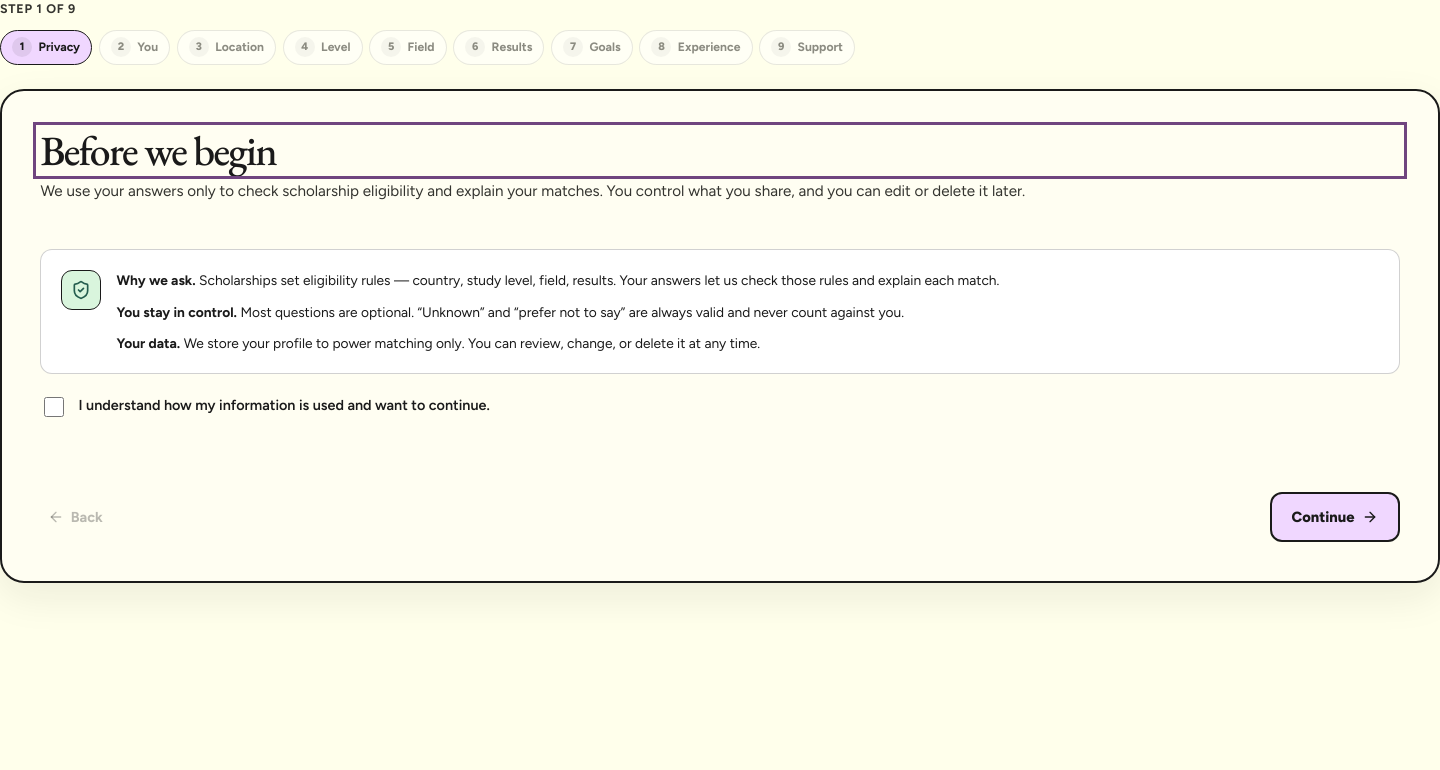
Test: OnboardingWizard › blocks Continue on the consent gate until consent is given
This screenshot has width=1440, height=770.
Check: the heading "Before we begin" is shown, box x1=40 y1=123 x2=276 y2=177
Click the button "Continue".
click(1335, 517)  # box x1=1270 y1=492 x2=1400 y2=542
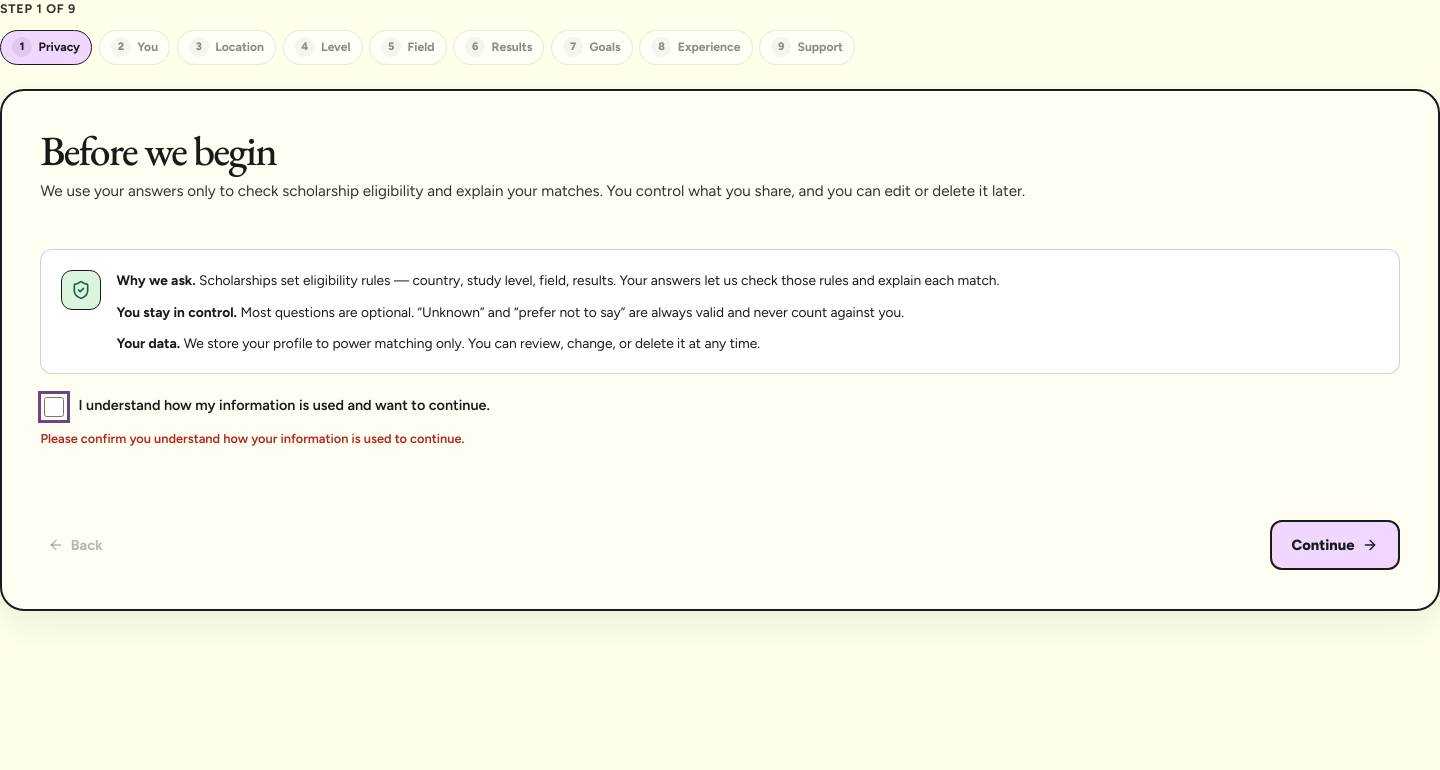
Check: the text "Please confirm you understand how your information is used to continue." is shown, box x1=40 y1=431 x2=464 y2=446
Click the checkbox labelled "I understand how my information is used".
click(54, 407)  # box x1=44 y1=397 x2=64 y2=417
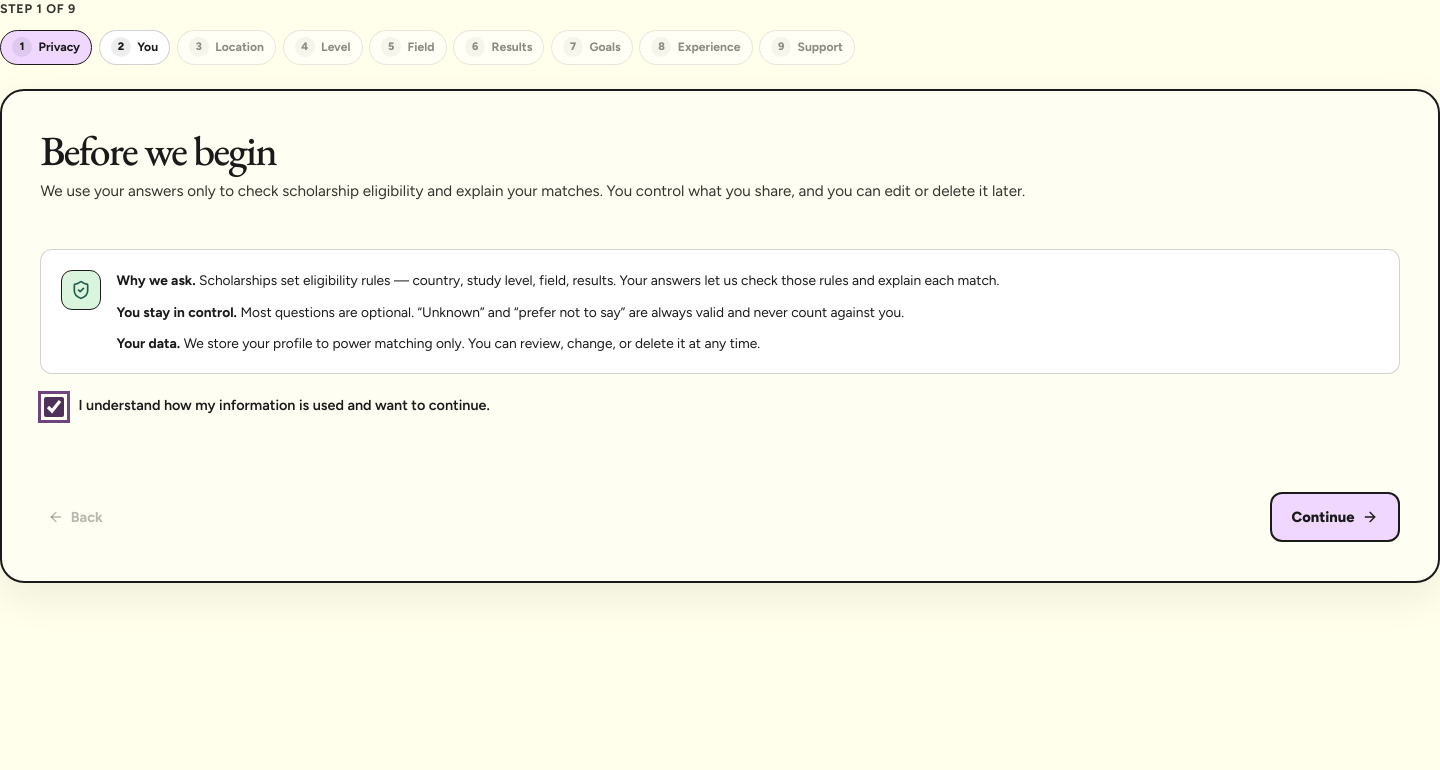
Click the button "Continue".
click(1335, 517)  # box x1=1270 y1=492 x2=1400 y2=542
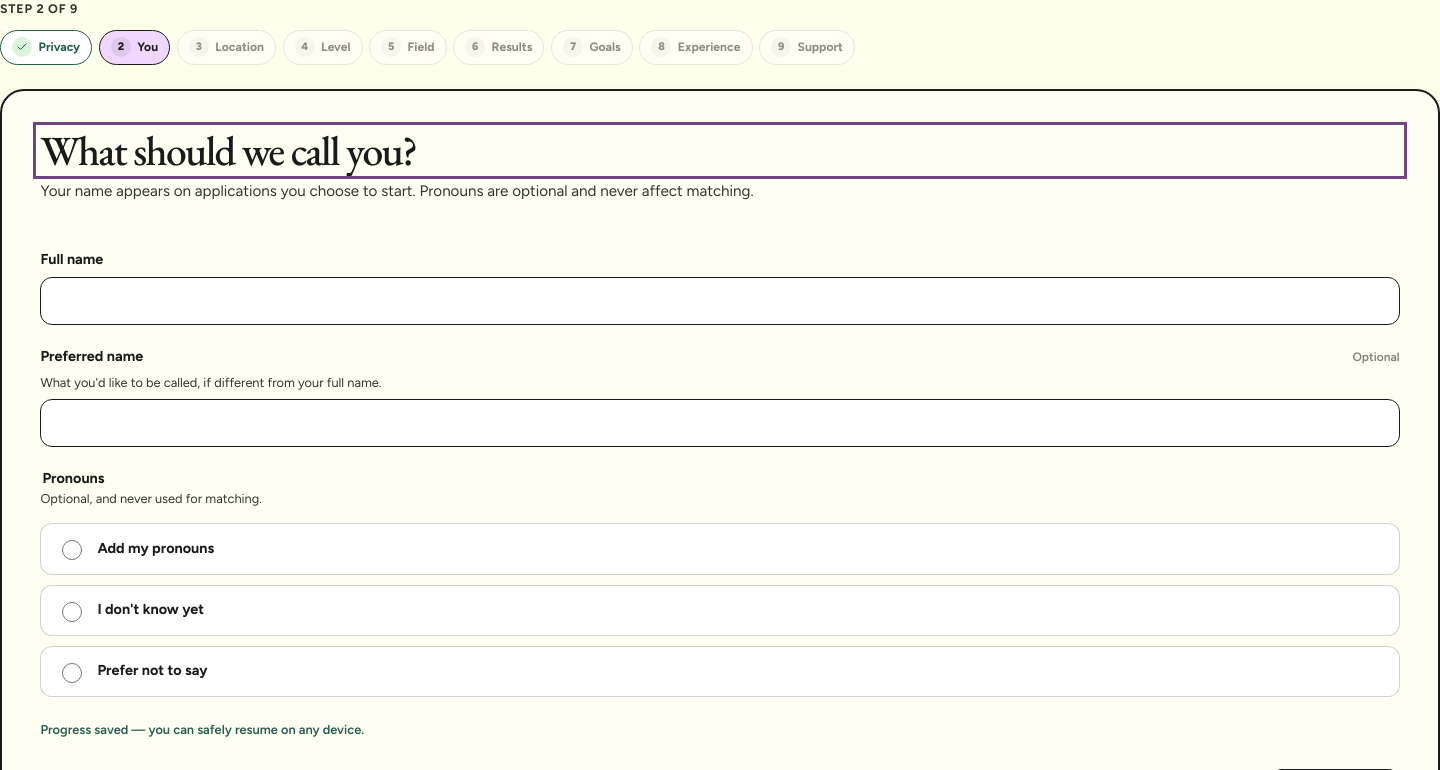
Check: the heading "What should we call you?" is shown, box x1=40 y1=123 x2=416 y2=177
